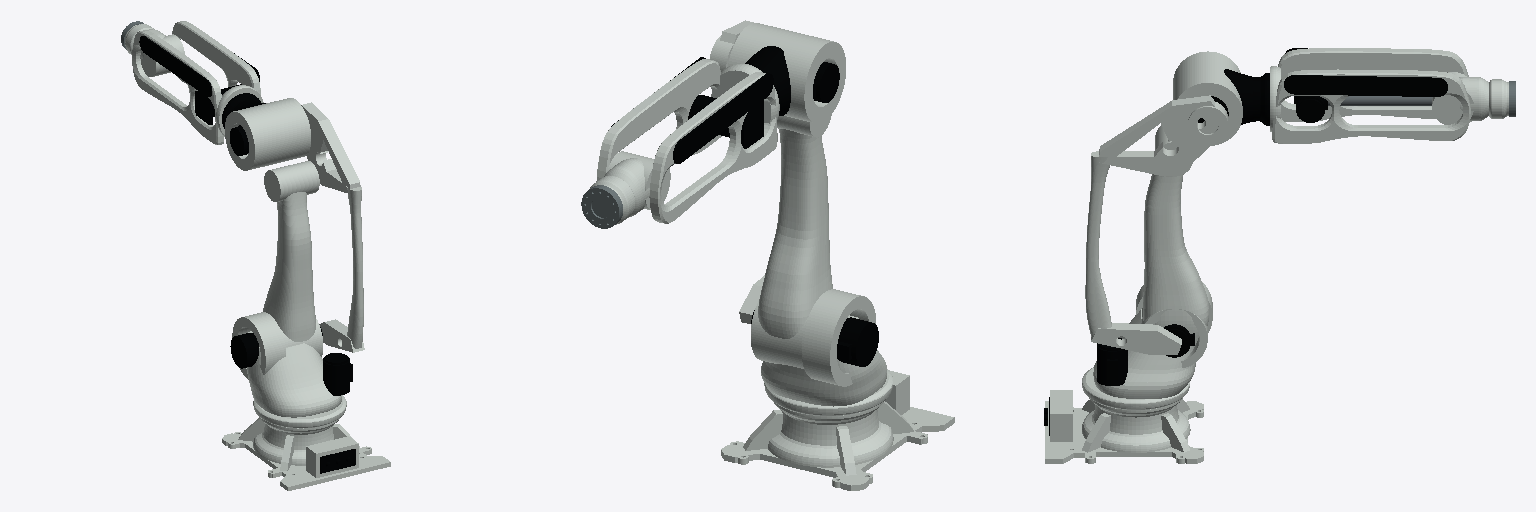
The robot description file, URDF, robot "bx250l-b001":
<?xml version='1.0' encoding='utf-8'?>
<robot name="bx250l-b001">
  <link name="base_link">
    <visual name="foot">
      <geometry>
        <mesh filename="../meshes/foot.stl" />
      </geometry>
      <material name="foot_material">
        <color rgba="0.79 0.82 0.8 1" />
      </material>
    </visual>
    <collision>
      <origin xyz="0 -0.0625 0.015" rpy="0 0 0" />
      <geometry>
        <box size="0.75 0.875 0.03" />
      </geometry>
    </collision>
    <visual name="base_pedestal">
      <geometry>
        <mesh filename="../meshes/base_pedestal.stl" />
      </geometry>
      <material name="base_pedestal_material">
        <color rgba="0.79 0.82 0.8 1" />
      </material>
    </visual>
    <collision>
      <origin xyz="0 0 0.152" rpy="0 0 0" />
      <geometry>
        <cylinder radius="0.295" length="0.244" />
      </geometry>
    </collision>
    <visual name="base_cast_rib_0">
      <geometry>
        <mesh filename="../meshes/base_cast_rib_0.stl" />
      </geometry>
      <material name="base_cast_rib_0_material">
        <color rgba="0.79 0.82 0.8 1" />
      </material>
    </visual>
    <visual name="base_cast_rib_1">
      <geometry>
        <mesh filename="../meshes/base_cast_rib_1.stl" />
      </geometry>
      <material name="base_cast_rib_1_material">
        <color rgba="0.79 0.82 0.8 1" />
      </material>
    </visual>
    <visual name="base_cast_rib_2">
      <geometry>
        <mesh filename="../meshes/base_cast_rib_2.stl" />
      </geometry>
      <material name="base_cast_rib_2_material">
        <color rgba="0.79 0.82 0.8 1" />
      </material>
    </visual>
    <visual name="base_cast_rib_3">
      <geometry>
        <mesh filename="../meshes/base_cast_rib_3.stl" />
      </geometry>
      <material name="base_cast_rib_3_material">
        <color rgba="0.79 0.82 0.8 1" />
      </material>
    </visual>
    <visual name="connector_box">
      <geometry>
        <mesh filename="../meshes/connector_box.stl" />
      </geometry>
      <material name="connector_box_material">
        <color rgba="0.79 0.82 0.8 1" />
      </material>
    </visual>
    <visual name="connector_panel">
      <geometry>
        <mesh filename="../meshes/connector_panel.stl" />
      </geometry>
      <material name="connector_panel_material">
        <color rgba="0.028 0.035 0.039 1" />
      </material>
    </visual>
    <visual name="power_connector_m0_074">
      <geometry>
        <mesh filename="../meshes/power_connector_m0_074.stl" />
      </geometry>
      <material name="power_connector_m0_074_material">
        <color rgba="0.028 0.035 0.039 1" />
      </material>
    </visual>
    <visual name="power_connector_0">
      <geometry>
        <mesh filename="../meshes/power_connector_0.stl" />
      </geometry>
      <material name="power_connector_0_material">
        <color rgba="0.028 0.035 0.039 1" />
      </material>
    </visual>
    <visual name="power_connector_0_074">
      <geometry>
        <mesh filename="../meshes/power_connector_0_074.stl" />
      </geometry>
      <material name="power_connector_0_074_material">
        <color rgba="0.028 0.035 0.039 1" />
      </material>
    </visual>
  </link>
  <link name="link1">
    <visual name="turntable">
      <geometry>
        <mesh filename="../meshes/turntable.stl" />
      </geometry>
      <material name="turntable_material">
        <color rgba="0.79 0.82 0.8 1" />
      </material>
    </visual>
    <collision>
      <origin xyz="0 0 -0.36" rpy="0 0 0" />
      <geometry>
        <cylinder radius="0.3" length="0.07" />
      </geometry>
    </collision>
    <visual name="shoulder_web">
      <geometry>
        <mesh filename="../meshes/shoulder_web.stl" />
      </geometry>
      <material name="shoulder_web_material">
        <color rgba="0.79 0.82 0.8 1" />
      </material>
    </visual>
    <collision>
      <origin xyz="0 0.1 -0.14" rpy="0 0 0" />
      <geometry>
        <box size="0.55 0.55 0.4" />
      </geometry>
    </collision>
    <visual name="shoulder_housing">
      <geometry>
        <mesh filename="../meshes/shoulder_housing.stl" />
      </geometry>
      <material name="shoulder_housing_material">
        <color rgba="0.79 0.82 0.8 1" />
      </material>
    </visual>
    <visual name="shoulder_motor_body">
      <geometry>
        <mesh filename="../meshes/shoulder_motor_body.stl" />
      </geometry>
      <material name="shoulder_motor_body_material">
        <color rgba="0.028 0.035 0.039 1" />
      </material>
    </visual>
    <visual name="shoulder_motor_endcap">
      <geometry>
        <mesh filename="../meshes/shoulder_motor_endcap.stl" />
      </geometry>
      <material name="shoulder_motor_endcap_material">
        <color rgba="0.028 0.035 0.039 1" />
      </material>
    </visual>
    <visual name="shoulder_motor_connector">
      <geometry>
        <mesh filename="../meshes/shoulder_motor_connector.stl" />
      </geometry>
      <material name="shoulder_motor_connector_material">
        <color rgba="0.028 0.035 0.039 1" />
      </material>
    </visual>
    <visual name="base_axis_motor_body">
      <geometry>
        <mesh filename="../meshes/base_axis_motor_body.stl" />
      </geometry>
      <material name="base_axis_motor_body_material">
        <color rgba="0.028 0.035 0.039 1" />
      </material>
    </visual>
    <visual name="base_axis_motor_endcap">
      <geometry>
        <mesh filename="../meshes/base_axis_motor_endcap.stl" />
      </geometry>
      <material name="base_axis_motor_endcap_material">
        <color rgba="0.028 0.035 0.039 1" />
      </material>
    </visual>
    <visual name="base_axis_motor_connector">
      <geometry>
        <mesh filename="../meshes/base_axis_motor_connector.stl" />
      </geometry>
      <material name="base_axis_motor_connector_material">
        <color rgba="0.028 0.035 0.039 1" />
      </material>
    </visual>
    <visual name="parallel_lower_bracket">
      <geometry>
        <mesh filename="../meshes/parallel_lower_bracket.stl" />
      </geometry>
      <material name="parallel_lower_bracket_material">
        <color rgba="0.79 0.82 0.8 1" />
      </material>
    </visual>
  </link>
  <link name="link2">
    <visual name="upper_arm">
      <geometry>
        <mesh filename="../meshes/upper_arm.stl" />
      </geometry>
      <material name="upper_arm_material">
        <color rgba="0.79 0.82 0.8 1" />
      </material>
    </visual>
    <collision>
      <origin xyz="0.045 0 0.17" rpy="0 0 0" />
      <geometry>
        <box size="0.3 0.36 0.34" />
      </geometry>
    </collision>
    <collision>
      <origin xyz="0.045 -0.05 0.49" rpy="0 0 0" />
      <geometry>
        <box size="0.22 0.25 0.38" />
      </geometry>
    </collision>
    <collision>
      <origin xyz="0.045 -0.04 0.84" rpy="0 0 0" />
      <geometry>
        <box size="0.2 0.22 0.39" />
      </geometry>
    </collision>
    <visual name="upper_arm_root">
      <geometry>
        <mesh filename="../meshes/upper_arm_root.stl" />
      </geometry>
      <material name="upper_arm_root_material">
        <color rgba="0.79 0.82 0.8 1" />
      </material>
    </visual>
    <visual name="arm_axis_motor_body">
      <geometry>
        <mesh filename="../meshes/arm_axis_motor_body.stl" />
      </geometry>
      <material name="arm_axis_motor_body_material">
        <color rgba="0.028 0.035 0.039 1" />
      </material>
    </visual>
    <visual name="arm_axis_motor_endcap">
      <geometry>
        <mesh filename="../meshes/arm_axis_motor_endcap.stl" />
      </geometry>
      <material name="arm_axis_motor_endcap_material">
        <color rgba="0.028 0.035 0.039 1" />
      </material>
    </visual>
    <visual name="arm_axis_motor_connector">
      <geometry>
        <mesh filename="../meshes/arm_axis_motor_connector.stl" />
      </geometry>
      <material name="arm_axis_motor_connector_material">
        <color rgba="0.028 0.035 0.039 1" />
      </material>
    </visual>
    <visual name="upper_arm_elbow">
      <geometry>
        <mesh filename="../meshes/upper_arm_elbow.stl" />
      </geometry>
      <material name="upper_arm_elbow_material">
        <color rgba="0.79 0.82 0.8 1" />
      </material>
    </visual>
  </link>
  <link name="parallel_arm1">
    <visual name="parallel_rod">
      <geometry>
        <mesh filename="../meshes/parallel_rod.stl" />
      </geometry>
      <material name="parallel_rod_material">
        <color rgba="0.79 0.82 0.8 1" />
      </material>
    </visual>
    <collision>
      <origin xyz="0 -0.031077 0.550541" rpy="0 0 0" />
      <geometry>
        <box size="0.09 0.17 1.23" />
      </geometry>
    </collision>
  </link>
  <link name="parallel_arm2">
    <visual name="elbow_carrier">
      <geometry>
        <mesh filename="../meshes/elbow_carrier.stl" />
      </geometry>
      <material name="elbow_carrier_material">
        <color rgba="0.79 0.82 0.8 1" />
      </material>
    </visual>
    <collision>
      <origin xyz="0.287 0.06 0.18" rpy="0 0 0" />
      <geometry>
        <box size="0.09 0.4 0.43" />
      </geometry>
    </collision>
    <visual name="carrier_bearing">
      <geometry>
        <mesh filename="../meshes/carrier_bearing.stl" />
      </geometry>
      <material name="carrier_bearing_material">
        <color rgba="0.79 0.82 0.8 1" />
      </material>
    </visual>
  </link>
  <link name="link3">
    <visual name="elbow_housing">
      <geometry>
        <mesh filename="../meshes/elbow_housing.stl" />
      </geometry>
      <material name="elbow_housing_material">
        <color rgba="0.79 0.82 0.8 1" />
      </material>
    </visual>
    <visual name="elbow_axis_endcap">
      <geometry>
        <mesh filename="../meshes/elbow_axis_endcap.stl" />
      </geometry>
      <material name="elbow_axis_endcap_material">
        <color rgba="0.028 0.035 0.039 1" />
      </material>
    </visual>
    <visual name="elbow_motor_body">
      <geometry>
        <mesh filename="../meshes/elbow_motor_body.stl" />
      </geometry>
      <material name="elbow_motor_body_material">
        <color rgba="0.028 0.035 0.039 1" />
      </material>
    </visual>
    <visual name="elbow_motor_endcap">
      <geometry>
        <mesh filename="../meshes/elbow_motor_endcap.stl" />
      </geometry>
      <material name="elbow_motor_endcap_material">
        <color rgba="0.028 0.035 0.039 1" />
      </material>
    </visual>
    <visual name="elbow_motor_connector">
      <geometry>
        <mesh filename="../meshes/elbow_motor_connector.stl" />
      </geometry>
      <material name="elbow_motor_connector_material">
        <color rgba="0.028 0.035 0.039 1" />
      </material>
    </visual>
    <collision>
      <origin xyz="0 0 0" rpy="0 1.57079632679 0" />
      <geometry>
        <cylinder radius="0.192" length="0.42" />
      </geometry>
    </collision>
    <visual name="wrist_swivel_base">
      <geometry>
        <mesh filename="../meshes/wrist_swivel_base.stl" />
      </geometry>
      <material name="wrist_swivel_base_material">
        <color rgba="0.028 0.035 0.039 1" />
      </material>
    </visual>
    <collision>
      <origin xyz="0 0.201 0" rpy="1.57079632679 0 0" />
      <geometry>
        <cylinder radius="0.17" length="0.292" />
      </geometry>
    </collision>
  </link>
  <link name="link4">
    <visual name="wrist_fork_left">
      <geometry>
        <mesh filename="../meshes/wrist_fork_left.stl" />
      </geometry>
      <material name="wrist_fork_left_material">
        <color rgba="0.79 0.82 0.8 1" />
      </material>
    </visual>
    <collision>
      <origin xyz="-0.14 0.558 0.188" rpy="0 0 0" />
      <geometry>
        <box size="0.06 1.03 0.095" />
      </geometry>
    </collision>
    <collision>
      <origin xyz="-0.14 0.558 -0.163" rpy="0 0 0" />
      <geometry>
        <box size="0.06 1.03 0.072" />
      </geometry>
    </collision>
    <collision>
      <origin xyz="-0.14 0.048 0" rpy="0 0 0" />
      <geometry>
        <box size="0.06 0.1 0.35" />
      </geometry>
    </collision>
    <visual name="wrist_fork_right">
      <geometry>
        <mesh filename="../meshes/wrist_fork_right.stl" />
      </geometry>
      <material name="wrist_fork_right_material">
        <color rgba="0.79 0.82 0.8 1" />
      </material>
    </visual>
    <collision>
      <origin xyz="0.14 0.558 0.188" rpy="0 0 0" />
      <geometry>
        <box size="0.06 1.03 0.095" />
      </geometry>
    </collision>
    <collision>
      <origin xyz="0.14 0.558 -0.163" rpy="0 0 0" />
      <geometry>
        <box size="0.06 1.03 0.072" />
      </geometry>
    </collision>
    <collision>
      <origin xyz="0.14 0.048 0" rpy="0 0 0" />
      <geometry>
        <box size="0.06 0.1 0.35" />
      </geometry>
    </collision>
    <visual name="forearm">
      <geometry>
        <mesh filename="../meshes/forearm.stl" />
      </geometry>
      <material name="forearm_material">
        <color rgba="0.79 0.82 0.8 1" />
      </material>
    </visual>
    <collision>
      <origin xyz="0 0.048 0" rpy="0 0 0" />
      <geometry>
        <box size="0.34 0.08 0.38" />
      </geometry>
    </collision>
    <visual name="wrist_drive_motor_body">
      <geometry>
        <mesh filename="../meshes/wrist_drive_motor_body.stl" />
      </geometry>
      <material name="wrist_drive_motor_body_material">
        <color rgba="0.028 0.035 0.039 1" />
      </material>
    </visual>
    <visual name="wrist_drive_motor_endcap">
      <geometry>
        <mesh filename="../meshes/wrist_drive_motor_endcap.stl" />
      </geometry>
      <material name="wrist_drive_motor_endcap_material">
        <color rgba="0.028 0.035 0.039 1" />
      </material>
    </visual>
    <visual name="wrist_drive_motor_connector">
      <geometry>
        <mesh filename="../meshes/wrist_drive_motor_connector.stl" />
      </geometry>
      <material name="wrist_drive_motor_connector_material">
        <color rgba="0.028 0.035 0.039 1" />
      </material>
    </visual>
    <visual name="wrist_motor_mount">
      <geometry>
        <mesh filename="../meshes/wrist_motor_mount.stl" />
      </geometry>
      <material name="wrist_motor_mount_material">
        <color rgba="0.028 0.035 0.039 1" />
      </material>
    </visual>
    <visual name="wrist_drive_shaft">
      <geometry>
        <mesh filename="../meshes/wrist_drive_shaft.stl" />
      </geometry>
      <material name="wrist_drive_shaft_material">
        <color rgba="0.43 0.46 0.47 1" />
      </material>
    </visual>
    <collision>
      <origin xyz="0 0.648 0" rpy="1.57079632679 0 0" />
      <geometry>
        <cylinder radius="0.037" length="0.66" />
      </geometry>
    </collision>
    <visual name="forearm_cover">
      <geometry>
        <mesh filename="../meshes/forearm_cover.stl" />
      </geometry>
      <material name="forearm_cover_material">
        <color rgba="0.028 0.035 0.039 1" />
      </material>
    </visual>
    <visual name="forearm_cover_far">
      <geometry>
        <mesh filename="../meshes/forearm_cover_far.stl" />
      </geometry>
      <material name="forearm_cover_far_material">
        <color rgba="0.028 0.035 0.039 1" />
      </material>
    </visual>
  </link>
  <link name="link5">
    <visual name="wrist_bend">
      <geometry>
        <mesh filename="../meshes/wrist_bend.stl" />
      </geometry>
      <material name="wrist_bend_material">
        <color rgba="0.79 0.82 0.8 1" />
      </material>
    </visual>
    <collision>
      <origin xyz="0 0 0" rpy="0 1.57079632679 0" />
      <geometry>
        <cylinder radius="0.116" length="0.212" />
      </geometry>
    </collision>
    <visual name="wrist_body">
      <geometry>
        <mesh filename="../meshes/wrist_body.stl" />
      </geometry>
      <material name="wrist_body_material">
        <color rgba="0.79 0.82 0.8 1" />
      </material>
    </visual>
    <collision>
      <origin xyz="0 0.1 0" rpy="1.57079632679 0 0" />
      <geometry>
        <cylinder radius="0.126" length="0.2" />
      </geometry>
    </collision>
  </link>
  <link name="link6">
    <visual name="wrist_output_housing">
      <geometry>
        <mesh filename="../meshes/wrist_output_housing.stl" />
      </geometry>
      <material name="wrist_output_housing_material">
        <color rgba="0.79 0.82 0.8 1" />
      </material>
    </visual>
    <collision>
      <origin xyz="0 -0.093 0" rpy="1.57079632679 0 0" />
      <geometry>
        <cylinder radius="0.11" length="0.11" />
      </geometry>
    </collision>
    <visual name="gun_bracket_160">
      <geometry>
        <mesh filename="../meshes/gun_bracket_160.stl" />
      </geometry>
      <material name="gun_bracket_160_material">
        <color rgba="0.44 0.48 0.49 1" />
      </material>
    </visual>
    <collision>
      <origin xyz="0 -0.028 0" rpy="1.57079632679 0 0" />
      <geometry>
        <cylinder radius="0.1" length="0.056" />
      </geometry>
    </collision>
  </link>
  <link name="flange" />
  <joint name="joint1" type="revolute">
    <parent link="base_link" />
    <child link="link1" />
    <origin xyz="0 0 0.67" rpy="0 0 0" />
    <axis xyz="0 0 -1" />
    <limit lower="-3.14159265359" upper="3.14159265359" velocity="2.18166156499" />
  </joint>
  <joint name="joint2" type="revolute">
    <parent link="link1" />
    <child link="link2" />
    <origin xyz="0 0.21 0" rpy="0 0 0" />
    <axis xyz="-1 0 0" />
    <limit lower="-1.0471975512" upper="1.32645023152" velocity="2.09439510239" />
  </joint>
  <joint name="joint3" type="revolute">
    <parent link="parallel_arm2" />
    <child link="link3" />
    <origin xyz="0 0.185 0.27" rpy="0 0 0" />
    <axis xyz="1 0 0" />
    <limit lower="-2.09439510239" upper="1.57079632679" velocity="1.74532925199" />
  </joint>
  <joint name="joint4" type="revolute">
    <parent link="link3" />
    <child link="link4" />
    <origin xyz="0 0.327 0" rpy="0 0 0" />
    <axis xyz="0 1 0" />
    <limit lower="-3.66519142919" upper="3.66519142919" velocity="2.44346095279" />
  </joint>
  <joint name="joint5" type="revolute">
    <parent link="link4" />
    <child link="link5" />
    <origin xyz="0 1.023 0" rpy="0 0 0" />
    <axis xyz="1 0 0" />
    <limit lower="-2.18166156499" upper="2.18166156499" velocity="2.44346095279" />
  </joint>
  <joint name="joint6" type="revolute">
    <parent link="link5" />
    <child link="link6" />
    <origin xyz="0 0.343 0" rpy="0 0 0" />
    <axis xyz="0 1 0" />
    <limit lower="-3.66519142919" upper="3.66519142919" velocity="3.49065850399" />
  </joint>
  <joint name="parallel_joint2" type="continuous">
    <parent link="link2" />
    <child link="parallel_arm2" />
    <origin xyz="0 0 1.1" rpy="0 0 0" />
    <axis xyz="-1 0 0" />
    <mimic joint="joint2" multiplier="-1" offset="0" />
  </joint>
  <joint name="parallel_joint1" type="continuous">
    <parent link="link1" />
    <child link="parallel_arm1" />
    <origin xyz="0.287 -0.183923 0.069459" rpy="0 0 0" />
    <axis xyz="-1 0 0" />
    <mimic joint="joint2" multiplier="1" offset="0" />
  </joint>
  <joint name="flange_joint" type="fixed">
    <parent link="link6" />
    <child link="flange" />
    <origin xyz="0 0 0" rpy="-1.57079632679 -1.57079632679 0" />
  </joint>
</robot>

--- Facts derived from the render (not from the file) ---
Views: 3 orthographic renders of the robot side by side, from view 1: azimuth 30°, elevation 25°; view 2: azimuth 150°, elevation 25°; view 3: azimuth 270°, elevation 25°.
Robot: bx250l-b001 — 10 links, 9 joints (6 revolute, 2 continuous, 1 fixed); root link base_link; default pose: every joint at zero.
Links seen in each view (by area): view 1: link1, link2, link4, base_link, link3, parallel_arm2, parallel_arm1, link5; view 2: link4, link2, link1, base_link, link3, link6, link5, parallel_arm2; view 3: link4, link2, base_link, link1, parallel_arm2, link3, parallel_arm1, link5, link6.
Link boxes in pixels (x1,y1,x2,y2): link1: (230,312,364,428); link2: (263,161,322,356); link4: (132,21,263,144); base_link: (222,417,390,490); link3: (222,93,310,170); parallel_arm2: (301,102,360,193); parallel_arm1: (346,186,363,348); link5: (140,29,184,76); link4: (596,57,779,223); link2: (751,115,832,368); link1: (739,275,892,415); base_link: (721,370,954,490); link3: (728,23,845,123); link6: (581,176,634,228); link5: (604,151,670,217); parallel_arm2: (710,20,753,71); link4: (1270,48,1470,143); link2: (1141,125,1208,367); base_link: (1044,390,1203,463); link1: (1082,282,1212,409); parallel_arm2: (1099,95,1227,176); link3: (1173,51,1269,145); parallel_arm1: (1085,151,1111,336); link5: (1432,72,1488,124); link6: (1489,79,1515,118).
Bounding box of the posed robot: 0.75 × 2.59 × 2.28 m (x, y, z).
Meshes: 50 distinct files referenced, 50 mesh visuals loaded (50 binary STL).
